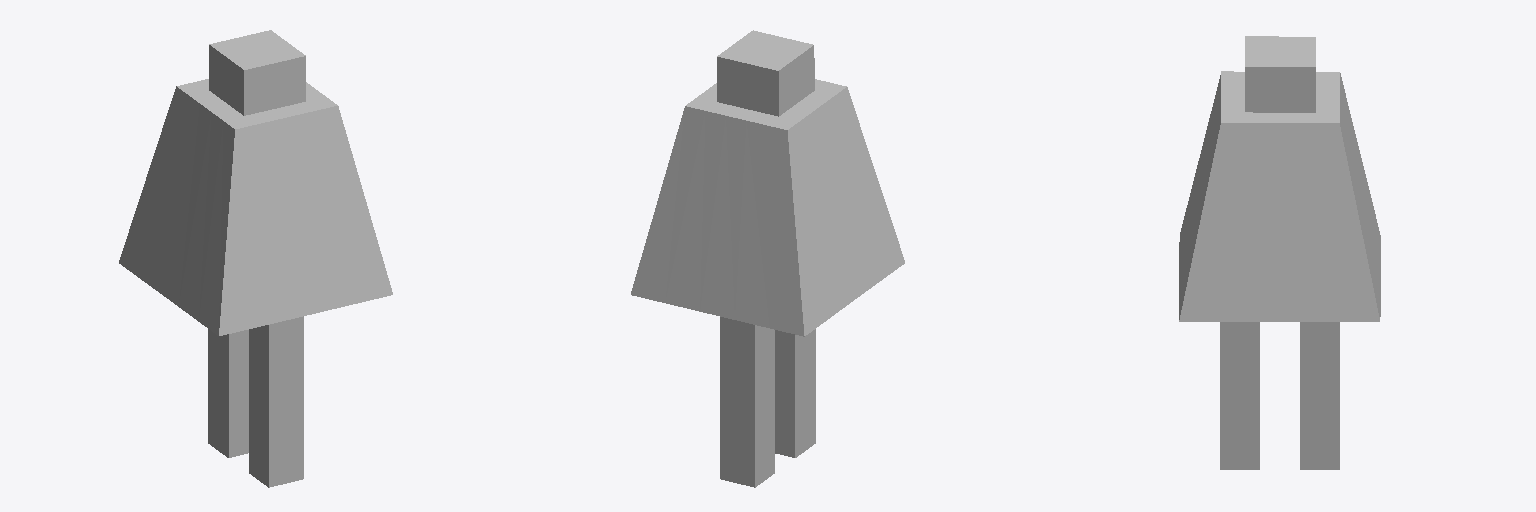
File: essai-stand_000005.obj
The picture shows the model from 3 angles: view 1: azimuth 30°, elevation 25°; view 2: azimuth 150°, elevation 25°; view 3: azimuth 270°, elevation 25°; orthographic projection.
Parts seen in each view (by area): view 1: Cube; view 2: Cube; view 3: Cube.
Part boxes in pixels (left/top/right/bottom): Cube: left=119, top=30, right=392, bottom=487; Cube: left=631, top=30, right=904, bottom=487; Cube: left=1179, top=36, right=1380, bottom=469.
Size of the model in its own units: 2 by 4.5 by 2.